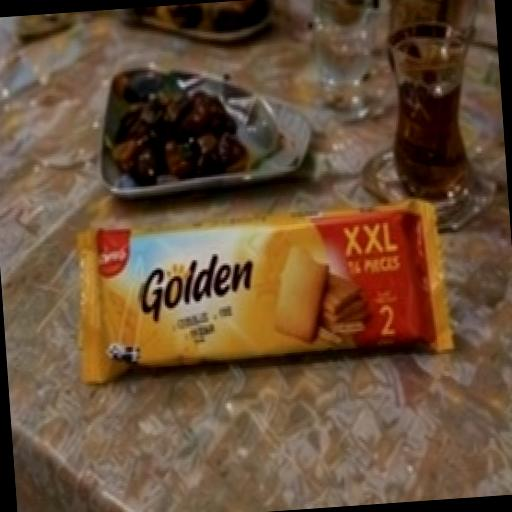golden: (33, 136, 472, 439)
